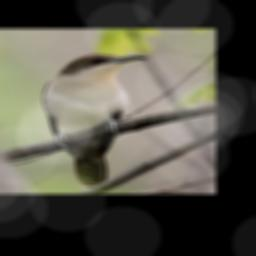Cuckoo: (42, 53, 149, 190)
